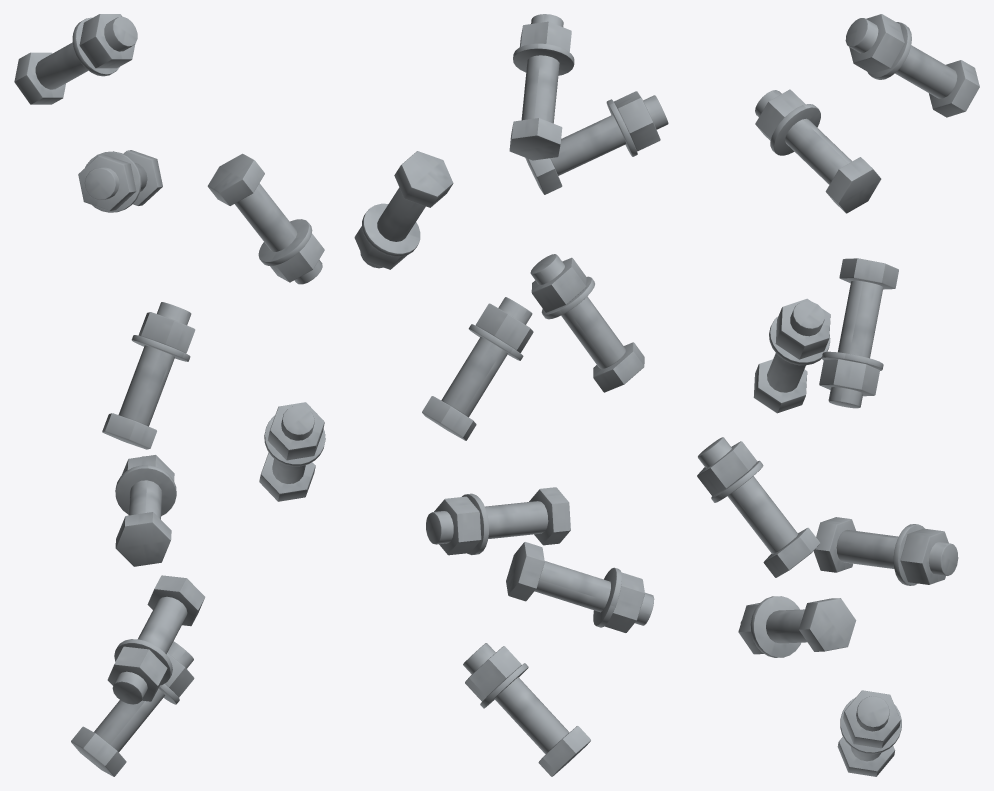
The model's file is EST-MET-006_anim.glb.
3 views of the same model, side by side, from view 1: azimuth 30°, elevation 25°; view 2: azimuth 150°, elevation 25°; view 3: azimuth 270°, elevation 25° (orthographic).
Parts seen in each view (by area): view 1: EST-MET-006_anim5, EST-MET-006_anim1, EST-MET-006_anim7, EST-MET-006_anim4, EST-MET-006_anim2, EST-MET-006_anim3, EST-MET-006_anim0, EST-MET-006_anim6; view 2: EST-MET-006_anim2, EST-MET-006_anim1, EST-MET-006_anim4, EST-MET-006_anim7, EST-MET-006_anim0, EST-MET-006_anim3, EST-MET-006_anim5, EST-MET-006_anim6; view 3: EST-MET-006_anim7, EST-MET-006_anim5, EST-MET-006_anim2, EST-MET-006_anim6, EST-MET-006_anim3, EST-MET-006_anim4, EST-MET-006_anim1, EST-MET-006_anim0.
Boxes of the visible parts, <box> form: EST-MET-006_anim5: <box>207,153,324,284</box>; EST-MET-006_anim1: <box>107,575,205,704</box>; EST-MET-006_anim7: <box>14,14,137,104</box>; EST-MET-006_anim4: <box>102,302,195,449</box>; EST-MET-006_anim2: <box>115,455,176,566</box>; EST-MET-006_anim3: <box>259,402,325,501</box>; EST-MET-006_anim0: <box>71,641,194,776</box>; EST-MET-006_anim6: <box>78,150,162,212</box>; EST-MET-006_anim2: <box>426,487,570,555</box>; EST-MET-006_anim1: <box>506,542,654,632</box>; EST-MET-006_anim4: <box>530,254,644,392</box>; EST-MET-006_anim7: <box>509,14,574,160</box>; EST-MET-006_anim0: <box>463,643,590,776</box>; EST-MET-006_anim3: <box>422,297,533,440</box>; EST-MET-006_anim5: <box>354,151,453,269</box>; EST-MET-006_anim6: <box>525,91,668,194</box>; EST-MET-006_anim7: <box>845,14,979,117</box>; EST-MET-006_anim5: <box>819,258,898,408</box>; EST-MET-006_anim2: <box>813,517,958,585</box>; EST-MET-006_anim6: <box>755,89,881,213</box>; EST-MET-006_anim3: <box>697,437,820,577</box>; EST-MET-006_anim4: <box>753,298,830,413</box>; EST-MET-006_anim1: <box>738,596,856,657</box>; EST-MET-006_anim0: <box>837,690,901,776</box>.
Size of the model in its own units: 0.1524 by 0.4072 by 0.1368.
Materials: 1 (1 with a texture image).
